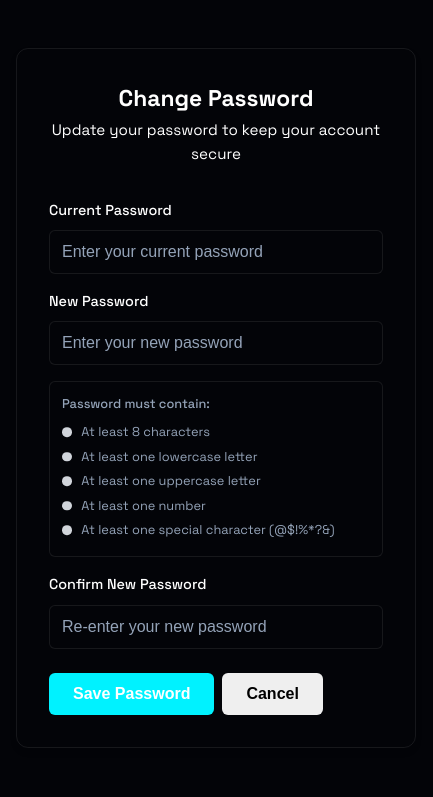
it: ChangePasswordForm › Form submission › should handle successful password change
In the password field labelled "Current Password": [216, 252] box [49,230,383,274], type "OldPass123!"
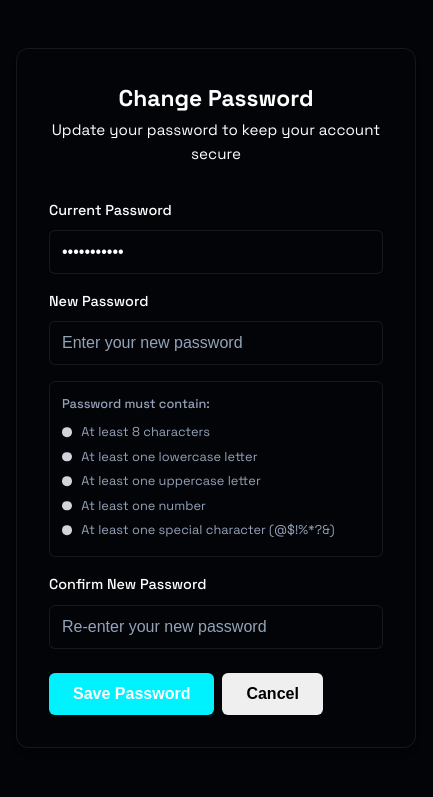
In the password field labelled "New Password": [216, 343] box [49,321,383,365], type "NewPass123!"
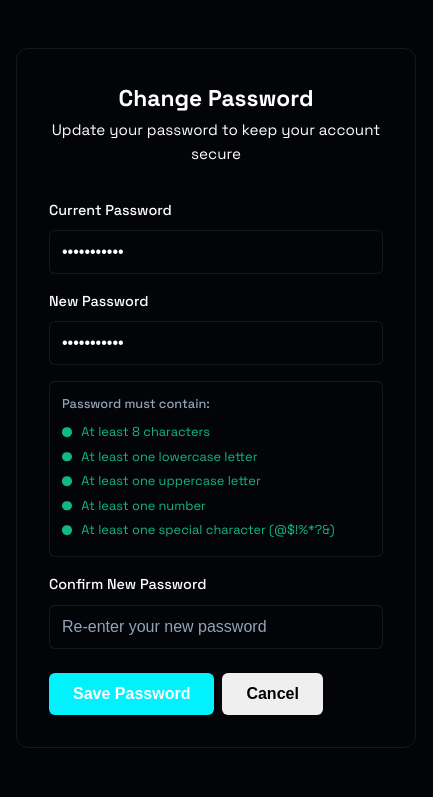
In the password field labelled "Confirm New Password": [216, 626] box [49,604,383,648], type "NewPass123!"
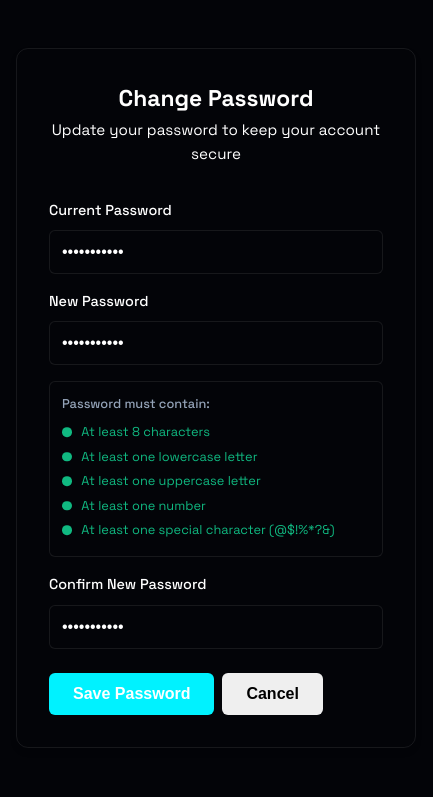
Click the button "Save Password": [132, 694] box [49,672,214,714]
Wait 1500 ms
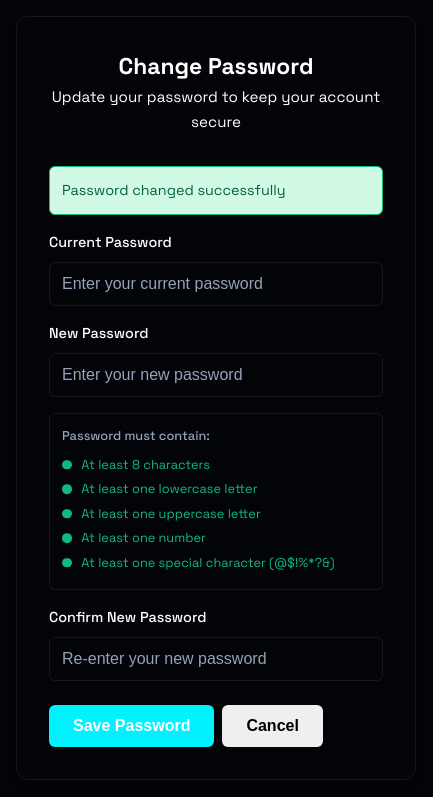
Expected: the text "Password changed successfully" is shown, [62,181,286,199]
